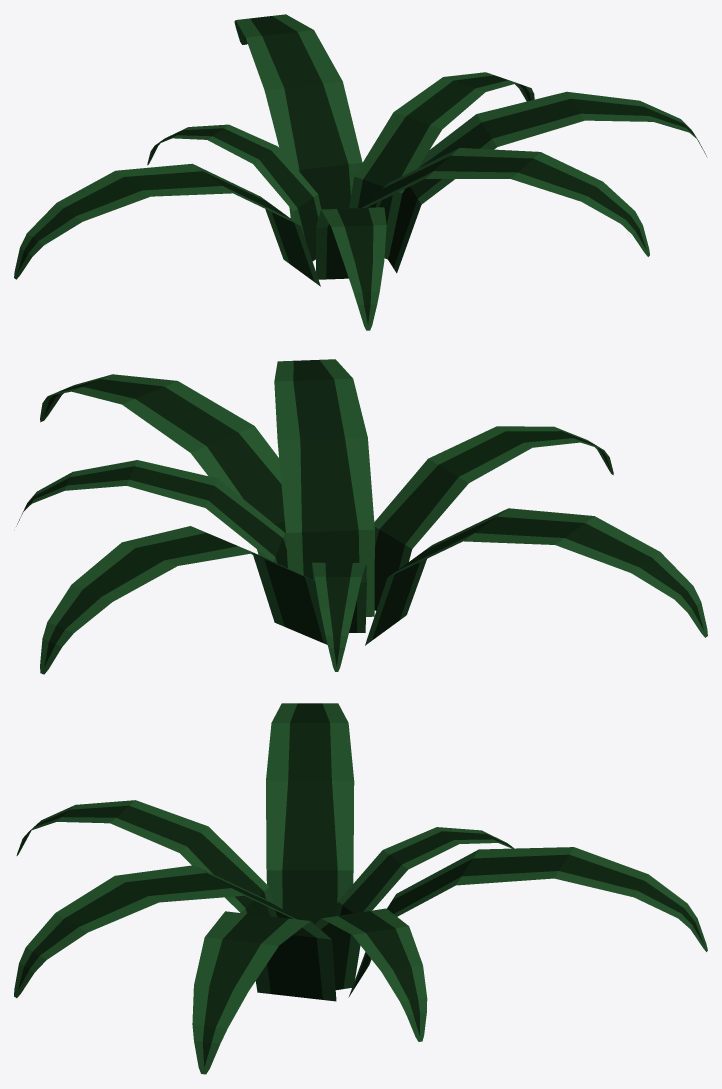
The model's file is Plant1.obj.
3 renders of one model, top to bottom at view 1: azimuth 30°, elevation 25°; view 2: azimuth 150°, elevation 25°; view 3: azimuth 270°, elevation 25°, orthographic. The views are drawn at different scales.
Parts seen in each view (by area): view 1: Airplane_Plant; view 2: Airplane_Plant; view 3: Airplane_Plant.
Boxes of the visible parts, left/top/right/bottom form: Airplane_Plant: left=14, top=14, right=707, bottom=330; Airplane_Plant: left=16, top=359, right=707, bottom=674; Airplane_Plant: left=14, top=703, right=707, bottom=1074.
Size of the model in its own units: 2.29 by 0.4453 by 1.97.
